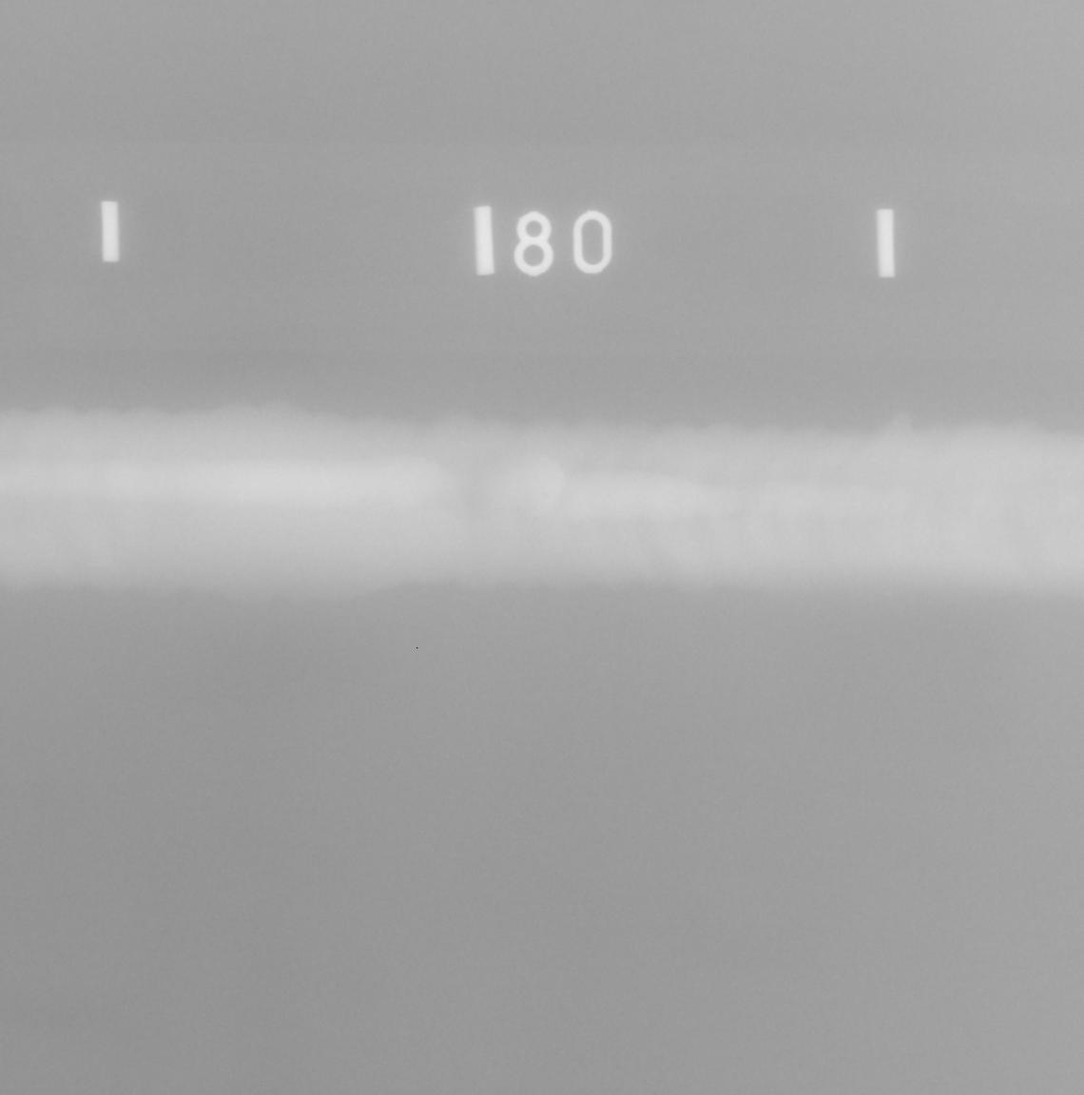Pore/Porosity: (543, 493, 547, 498)
